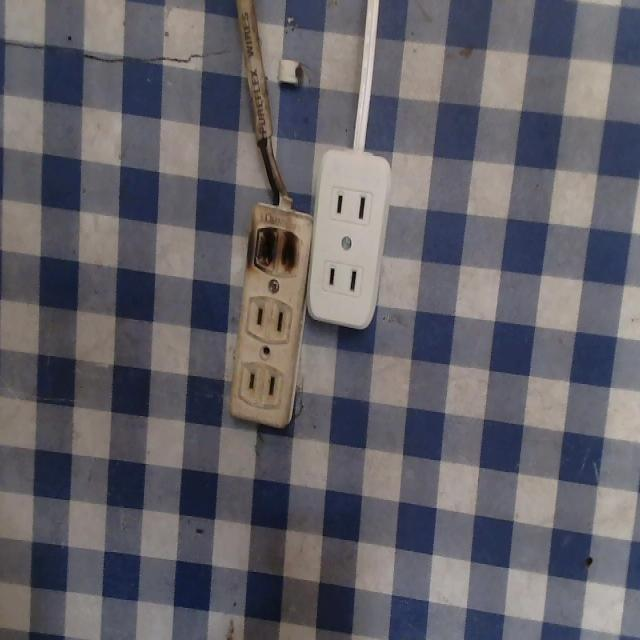-: (244, 208, 303, 288)
